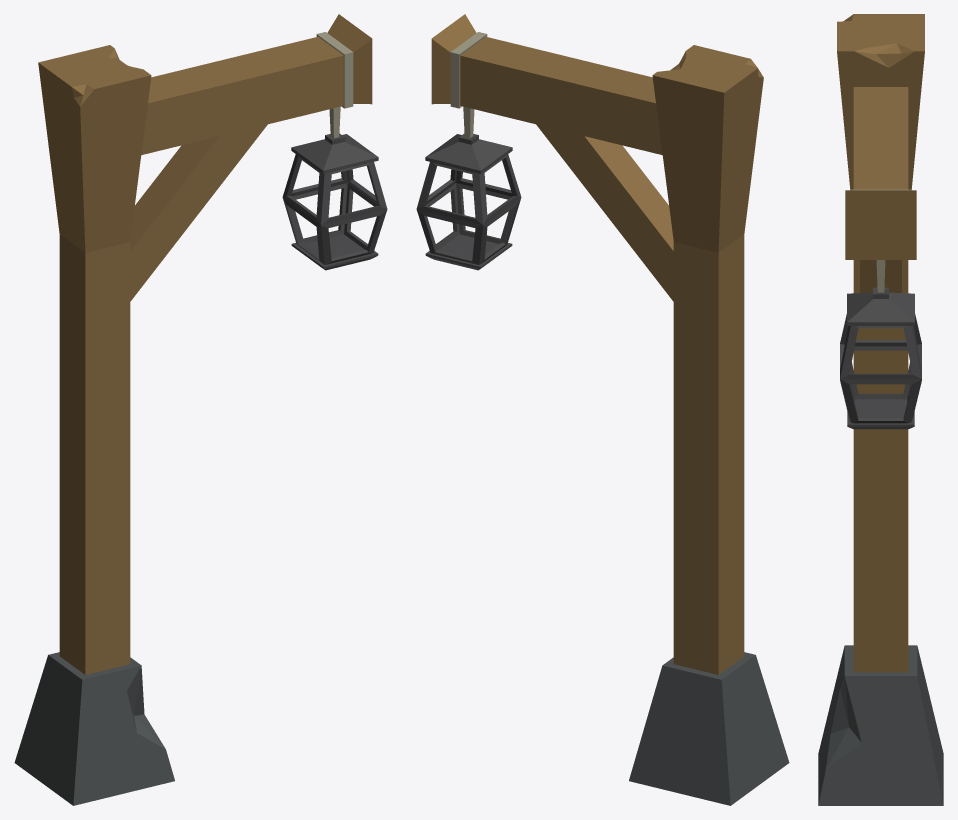
Rendered from Lamp3_Destroy.fbx.
3 views of the same model, side by side, from view 1: azimuth 30°, elevation 25°; view 2: azimuth 150°, elevation 25°; view 3: azimuth 270°, elevation 25° (orthographic). The views are drawn at different scales.
Parts seen in each view (by area): view 1: Cube, Cube.001; view 2: Cube, Cube.001; view 3: Cube, Cube.001.
Boxes of the visible parts, <box> form: Cube: <box>14,14,372,805</box>; Cube.001: <box>282,133,387,270</box>; Cube: <box>431,14,789,805</box>; Cube.001: <box>416,133,521,270</box>; Cube: <box>818,14,943,805</box>; Cube.001: <box>840,287,921,429</box>.
Size of the model in its own units: 127 by 262 by 39.78.
